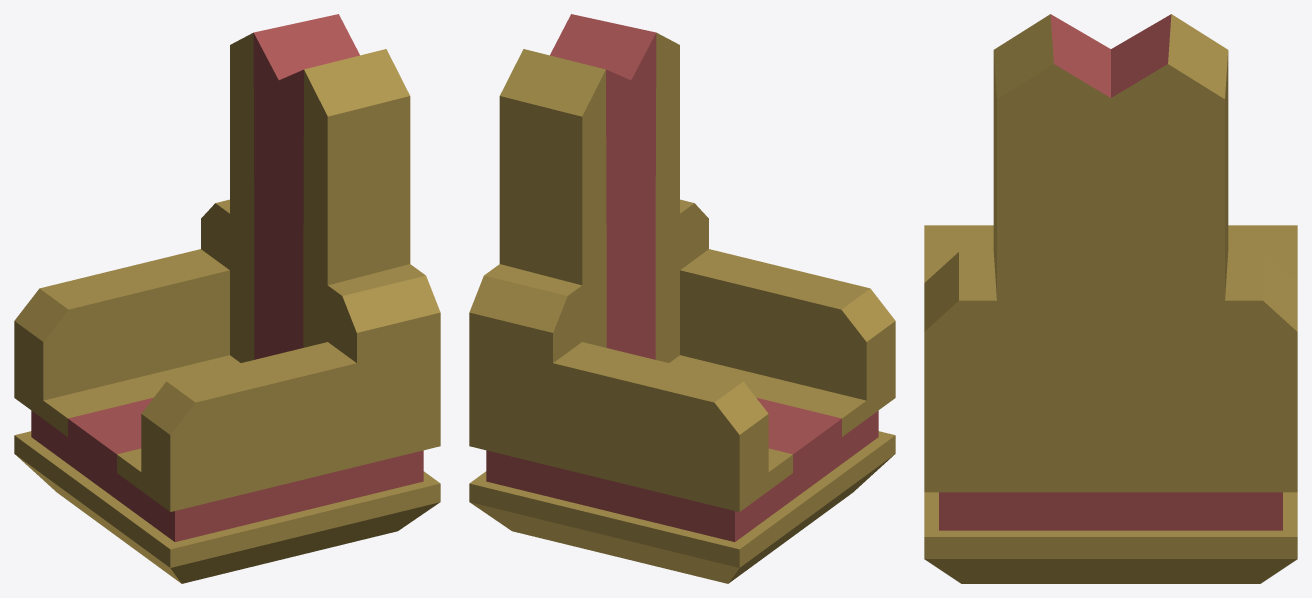
Rendered from Throne.fbx.
3 renders of one model, left to right at view 1: azimuth 30°, elevation 25°; view 2: azimuth 150°, elevation 25°; view 3: azimuth 270°, elevation 25°, orthographic. The views are drawn at different scales.
Parts seen in each view (by area): view 1: pCube3; view 2: pCube3; view 3: pCube3.
Part boxes in pixels (box(x1,y1,x2,y2)): pCube3: box(14, 14, 440, 583); pCube3: box(469, 14, 895, 583); pCube3: box(924, 14, 1297, 583).
Size of the model in its own units: 100 by 159 by 100.
